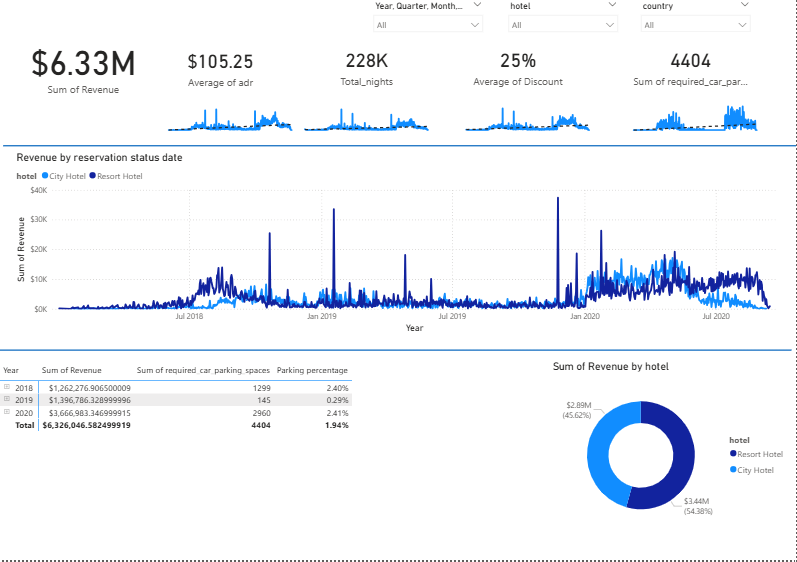

The dashboard page shown, as its layout file describes it:
{"tool":"powerbi","page":{"name":"Page 1","canvas":[1280,900],"ordinal":0},"visuals":[{"type":"shape","box":[10,98.9,1270,280],"z":0},{"type":"shape","box":[0,410,1271,310],"z":1000},{"type":"card","fields":{"Values":["Sum(Query1.Revenue)"]},"box":[25.6,24.4,224.4,170],"z":2000},{"type":"card","fields":{"Values":["Avg(Query1.adr)"]},"box":[260,57.8,195.6,107.8],"z":3000},{"type":"card","fields":{"Values":["Query1.Total_nights"]},"box":[494.4,55.6,195.6,107.8],"z":4000},{"type":"card","fields":{"Values":["Avg(Query1.Discount)"]},"box":[736.7,55.6,195.6,107.8],"z":5000},{"type":"lineChart","title":"Revenue by reservation status date","fields":{"Y":["Sum(Query1.Revenue)"],"Category":["Query1.reservation_status_date.Variation.Date Hierarchy.Year","Query1.reservation_status_date.Variation.Date Hierarchy.Quarter","Query1.reservation_status_date.Variation.Date Hierarchy.Month","Query1.reservation_status_date.Variation.Date Hierarchy.Day"],"Series":["Query1.hotel"]},"box":[25.6,245.6,1237.8,296.7],"z":6000},{"type":"slicer","fields":{"Values":["Query1.country"]},"box":[1020,0,195.6,66.7],"z":7000},{"type":"slicer","fields":{"Values":["Query1.hotel"]},"box":[808.9,0,195.6,66.7],"z":8000},{"type":"lineChart","title":"Revenue by reservation status date","fields":{"Y":["Sum(Query1.adr)"],"Category":["Query1.reservation_status_date.Variation.Date Hierarchy.Year","Query1.reservation_status_date.Variation.Date Hierarchy.Quarter","Query1.reservation_status_date.Variation.Date Hierarchy.Month","Query1.reservation_status_date.Variation.Date Hierarchy.Day"]},"box":[260,156.7,226.7,63.3],"z":9000},{"type":"lineChart","title":"Revenue by reservation status date","fields":{"Y":["Query1.Total_nights"],"Category":["Query1.reservation_status_date.Variation.Date Hierarchy.Year","Query1.reservation_status_date.Variation.Date Hierarchy.Quarter","Query1.reservation_status_date.Variation.Date Hierarchy.Month","Query1.reservation_status_date.Variation.Date Hierarchy.Day"]},"box":[478.9,156.7,226.7,63.3],"z":10000},{"type":"lineChart","title":"Revenue by reservation status date","fields":{"Y":["Sum(Query1.Discount)"],"Category":["Query1.reservation_status_date.Variation.Date Hierarchy.Year","Query1.reservation_status_date.Variation.Date Hierarchy.Quarter","Query1.reservation_status_date.Variation.Date Hierarchy.Month","Query1.reservation_status_date.Variation.Date Hierarchy.Day"]},"box":[736.7,156.7,226.7,63.3],"z":11000},{"type":"card","fields":{"Values":["Sum(Query1.required_car_parking_spaces)"]},"box":[1012.2,55.6,195.6,107.8],"z":12000},{"type":"lineChart","title":"Revenue by reservation status date","fields":{"Y":["Sum(Query1.required_car_parking_spaces)"],"Category":["Query1.reservation_status_date.Variation.Date Hierarchy.Year","Query1.reservation_status_date.Variation.Date Hierarchy.Quarter","Query1.reservation_status_date.Variation.Date Hierarchy.Month","Query1.reservation_status_date.Variation.Date Hierarchy.Day"]},"box":[1004.4,156.7,226.7,63.3],"z":12001},{"type":"donutChart","fields":{"Category":["Query1.hotel"],"Y":["Sum(Query1.Revenue)"]},"box":[883.3,580,387.8,287.8],"z":12002},{"type":"pivotTable","fields":{"Rows":["Query1.reservation_status_date.Variation.Date Hierarchy.Year","Query1.hotel"],"Values":["Sum(Query1.Revenue)","Sum(Query1.required_car_parking_spaces)","Query1.Parking percentage"]},"box":[0,580,883.3,290],"z":12003},{"type":"slicer","fields":{"Values":["Query1.reservation_status_date.Variation.Date Hierarchy.Year","Query1.reservation_status_date.Variation.Date Hierarchy.Quarter","Query1.reservation_status_date.Variation.Date Hierarchy.Month","Query1.reservation_status_date.Variation.Date Hierarchy.Day"]},"box":[592.2,0,195.6,66.7],"z":12004}]}

Visuals, with their boxes in screenshot pixels (x1, y1, x2, y2), scaled from the page's 1280x900 canvas onto the 797x562 screenshot:
shape: [6, 62, 796, 237]
shape: [0, 256, 791, 450]
card - Sum(Query1.Revenue): [16, 15, 156, 121]
card - Avg(Query1.adr): [162, 36, 284, 103]
card - Query1.Total_nights: [308, 35, 430, 102]
card - Avg(Query1.Discount): [459, 35, 581, 102]
"Revenue by reservation status date" lineChart: [16, 153, 787, 339]
slicer - Query1.country: [635, 0, 757, 42]
slicer - Query1.hotel: [504, 0, 625, 42]
"Revenue by reservation status date" lineChart: [162, 98, 303, 137]
"Revenue by reservation status date" lineChart: [298, 98, 439, 137]
"Revenue by reservation status date" lineChart: [459, 98, 600, 137]
card - Sum(Query1.required_car_parking_spaces): [630, 35, 752, 102]
"Revenue by reservation status date" lineChart: [625, 98, 767, 137]
donutChart - Query1.hotel x Sum(Query1.Revenue): [550, 362, 791, 542]
pivotTable - Query1.reservation_status_date.Variation.Date Hierarchy.Year x Query1.hotel: [0, 362, 550, 543]
slicer - Query1.reservation_status_date.Variation.Date Hierarchy.Year x Query1.reservation_status_date.Variation.Date Hierarchy.Quarter: [369, 0, 491, 42]
